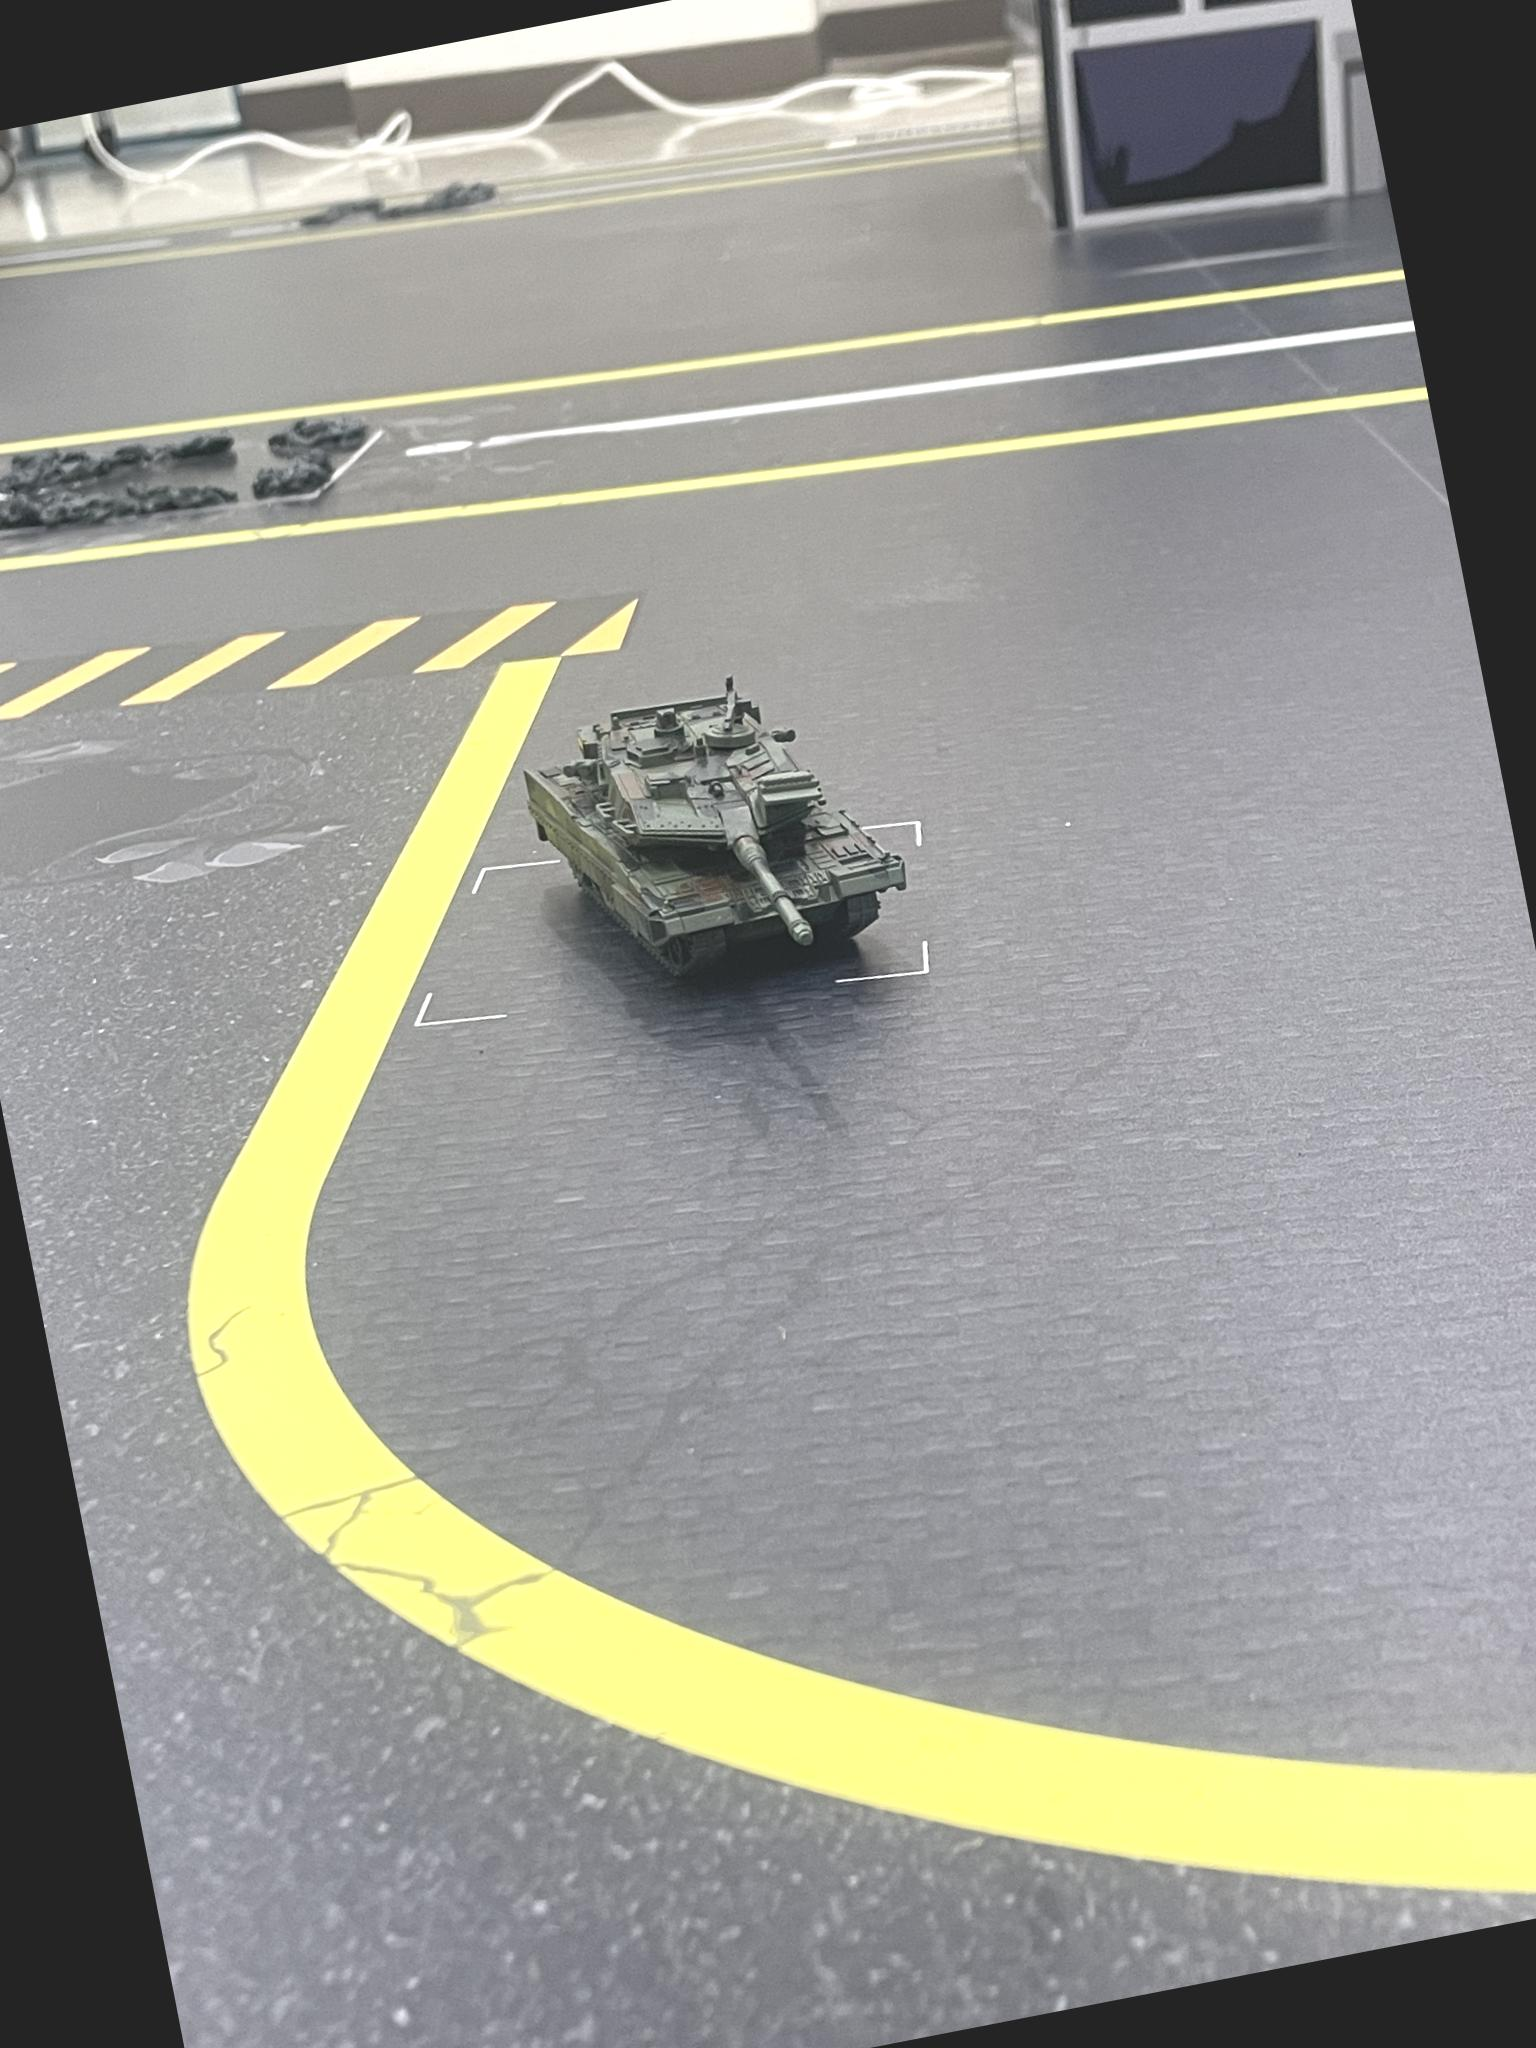Tank: (499, 627, 928, 1040)
